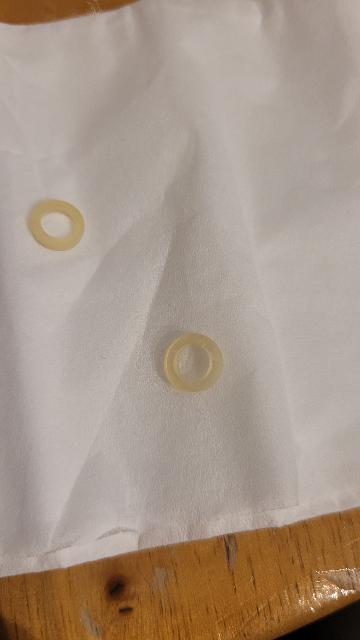Plastik: (165, 332, 222, 391), (32, 199, 84, 248)
